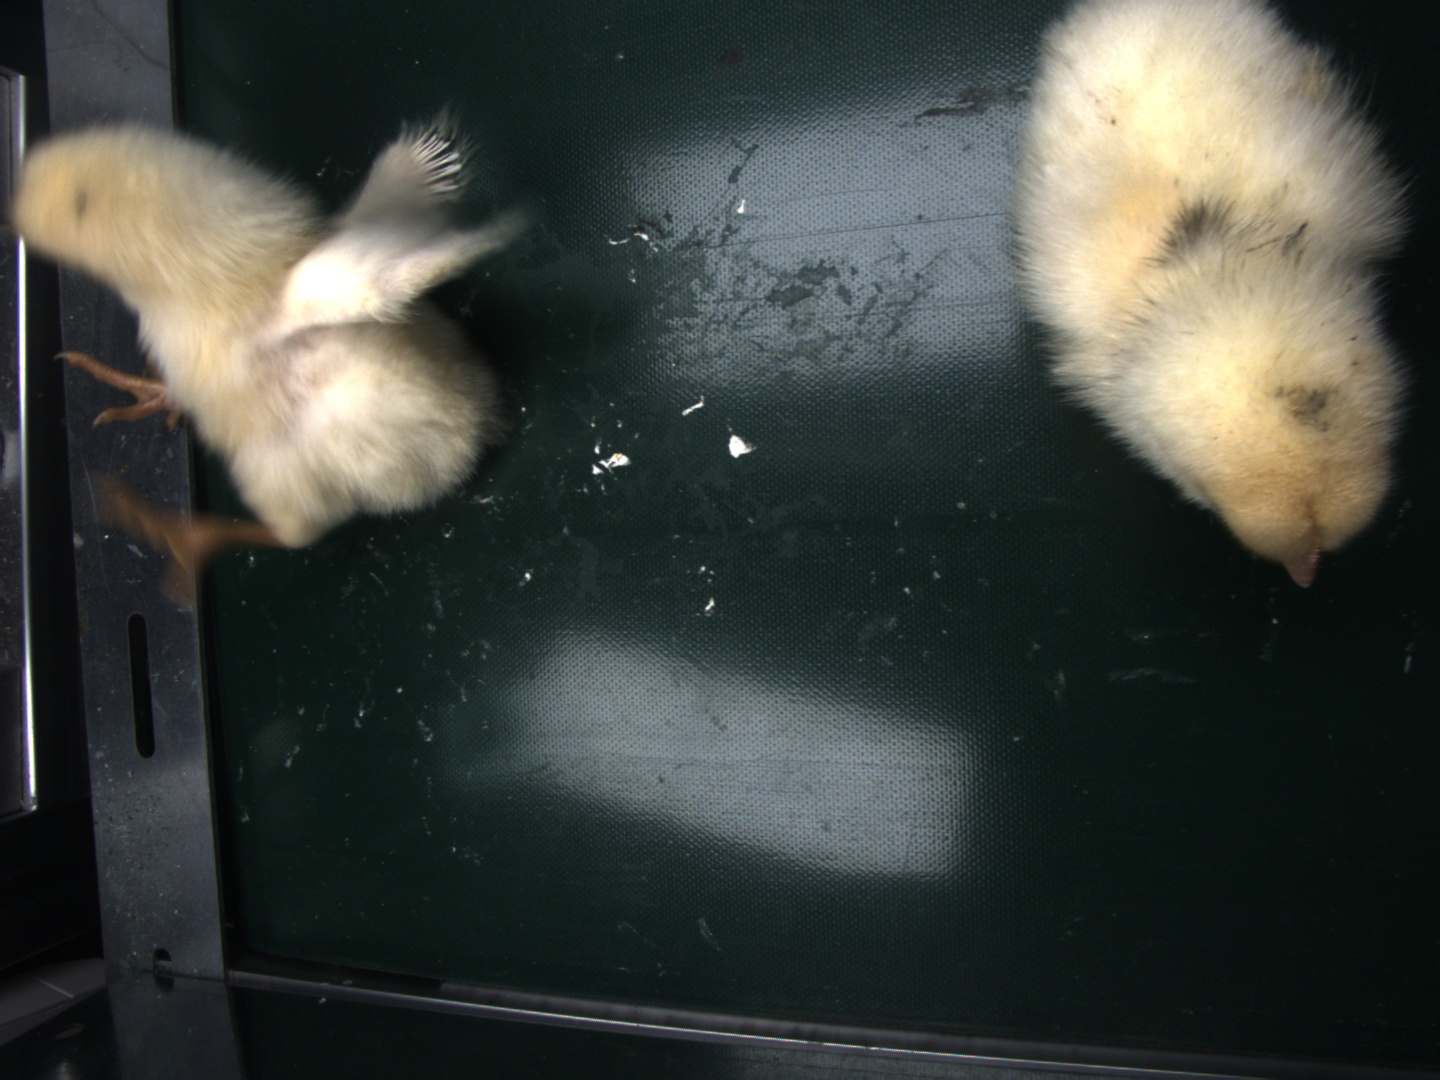male: (408, 128, 468, 194)
